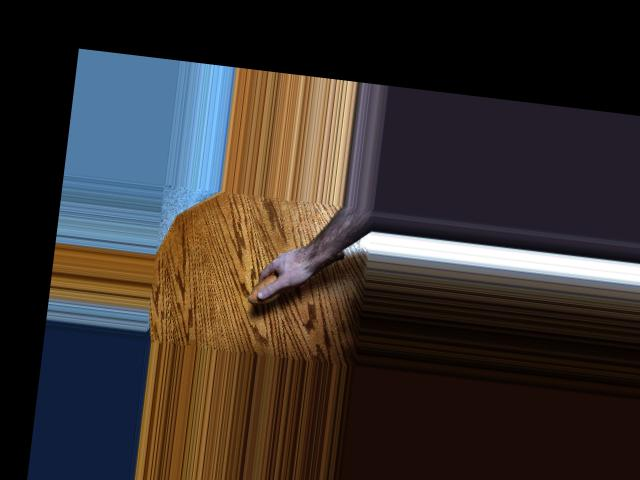sweet_potato: (247, 239, 347, 315)
